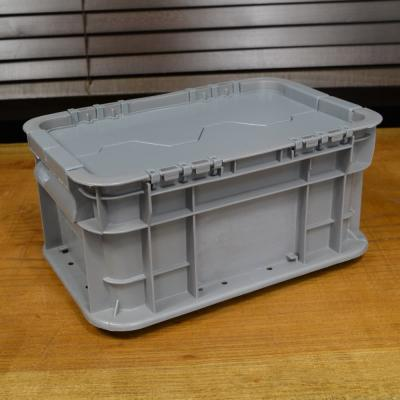plastic: (24, 78, 380, 330)
